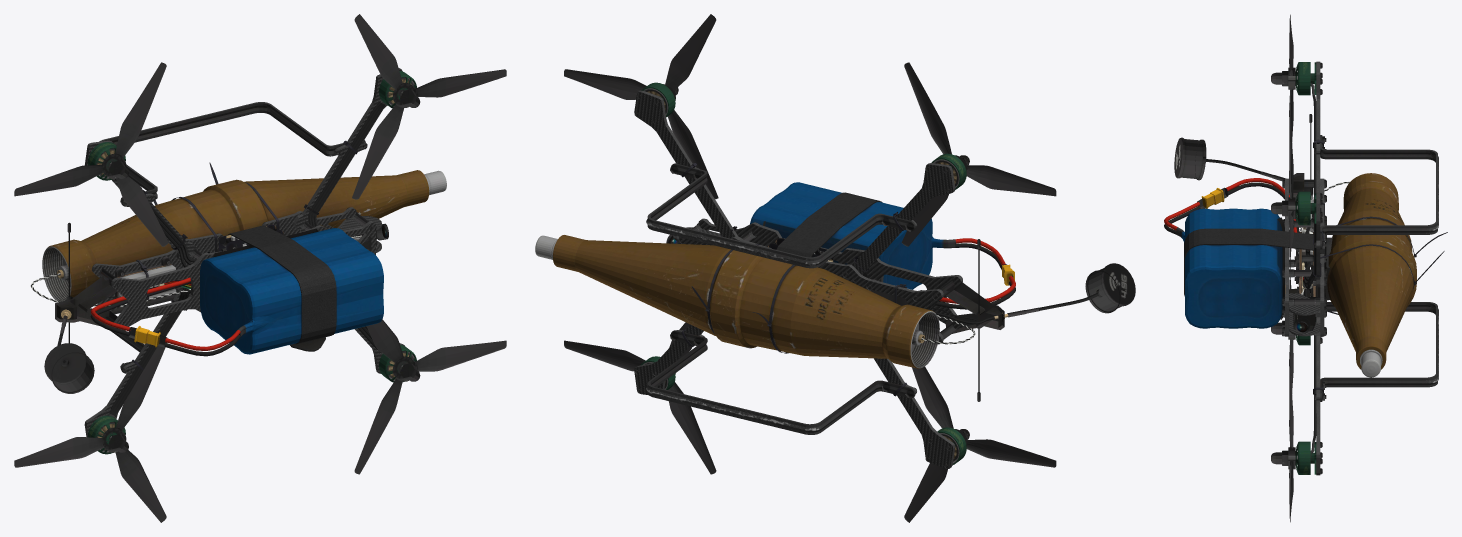
The model's file is kamikaze_drone_ros.obj.
3 renders of one model, left to right at view 1: azimuth 30°, elevation 25°; view 2: azimuth 150°, elevation 25°; view 3: azimuth 270°, elevation 25°, orthographic. The views are drawn at different scales.
Parts seen in each view (by area): view 1: vehicle#fuse_0, vehicle#prop01_2_13, vehicle#prop01_1_6, vehicle#prop01_4_11, vehicle#prop01_3_2, vehicle#tail_9, vehicle#wing_r_4, vehicle#gear_r_15, vehicle#wing_l_3; view 2: vehicle#fuse_0, vehicle#wing_r_4, vehicle#tail_9, vehicle#prop01_1_6, vehicle#gear_r_15, vehicle#gear_l_14, vehicle#prop01_2_13, vehicle#prop01_4_11, vehicle#wing_l_3, vehicle#prop01_3_2; view 3: vehicle#fuse_0, vehicle#gear_r_15, vehicle#tail_9, vehicle#wing_r_4, vehicle#gear_l_14, vehicle#prop01_3_2, vehicle#prop01_1_6, vehicle#prop01_2_13, vehicle#wing_l_3, vehicle#prop01_4_11.
Part boxes in pixels (x1=…): vehicle#fuse_0: x1=31, y1=162, x2=446, y2=356; vehicle#prop01_2_13: x1=14, y1=62, x2=168, y2=246; vehicle#prop01_1_6: x1=352, y1=14, x2=506, y2=199; vehicle#prop01_4_11: x1=14, y1=346, x2=166, y2=522; vehicle#prop01_3_2: x1=354, y1=319, x2=506, y2=474; vehicle#tail_9: x1=44, y1=222, x2=191, y2=393; vehicle#wing_r_4: x1=85, y1=68, x2=401, y2=267; vehicle#gear_r_15: x1=99, y1=102, x2=365, y2=206; vehicle#wing_l_3: x1=84, y1=286, x2=404, y2=437; vehicle#fuse_0: x1=535, y1=182, x2=1015, y2=368; vehicle#wing_r_4: x1=634, y1=90, x2=955, y2=277; vehicle#tail_9: x1=894, y1=239, x2=1135, y2=401; vehicle#prop01_1_6: x1=564, y1=14, x2=718, y2=199; vehicle#gear_r_15: x1=646, y1=163, x2=915, y2=268; vehicle#gear_l_14: x1=646, y1=330, x2=915, y2=434; vehicle#prop01_2_13: x1=901, y1=62, x2=1056, y2=246; vehicle#prop01_4_11: x1=904, y1=366, x2=1056, y2=522; vehicle#wing_l_3: x1=634, y1=324, x2=955, y2=468; vehicle#prop01_3_2: x1=564, y1=322, x2=716, y2=474; vehicle#fuse_0: x1=1164, y1=173, x2=1447, y2=377; vehicle#gear_r_15: x1=1320, y1=135, x2=1438, y2=249; vehicle#tail_9: x1=1174, y1=114, x2=1324, y2=262; vehicle#wing_r_4: x1=1303, y1=61, x2=1326, y2=289; vehicle#gear_l_14: x1=1320, y1=302, x2=1438, y2=401; vehicle#prop01_3_2: x1=1271, y1=353, x2=1310, y2=522; vehicle#prop01_1_6: x1=1271, y1=102, x2=1310, y2=269; vehicle#prop01_2_13: x1=1271, y1=14, x2=1310, y2=142; vehicle#wing_l_3: x1=1303, y1=252, x2=1326, y2=475; vehicle#prop01_4_11: x1=1271, y1=277, x2=1310, y2=393.
Bounding box in the file's own units: 0.5554 × 0.4763 × 0.2914.
3 materials, 2 textured.
